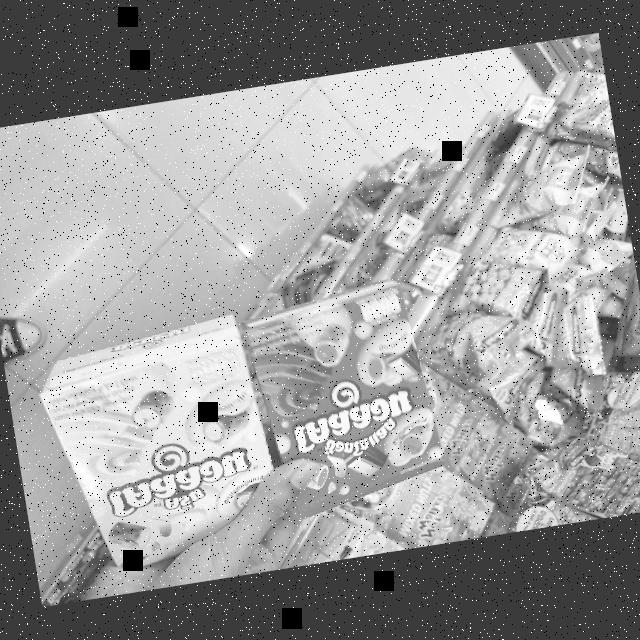cardboard_box: (30, 302, 294, 578), (238, 266, 454, 522)
